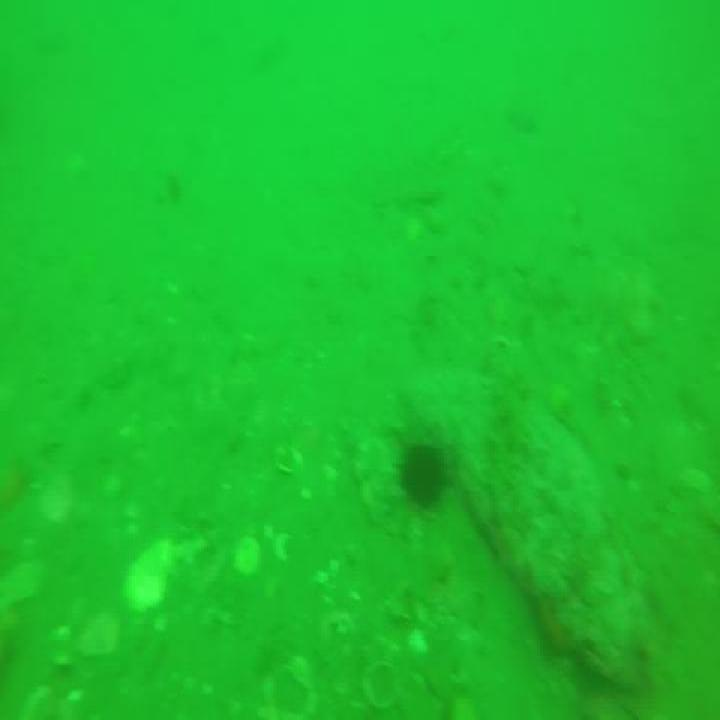echinus: (402, 437, 445, 507)
holothurian: (486, 341, 533, 482)
scallop: (118, 539, 181, 608), (273, 656, 317, 720), (362, 659, 401, 720), (233, 537, 265, 579), (279, 439, 304, 475)
